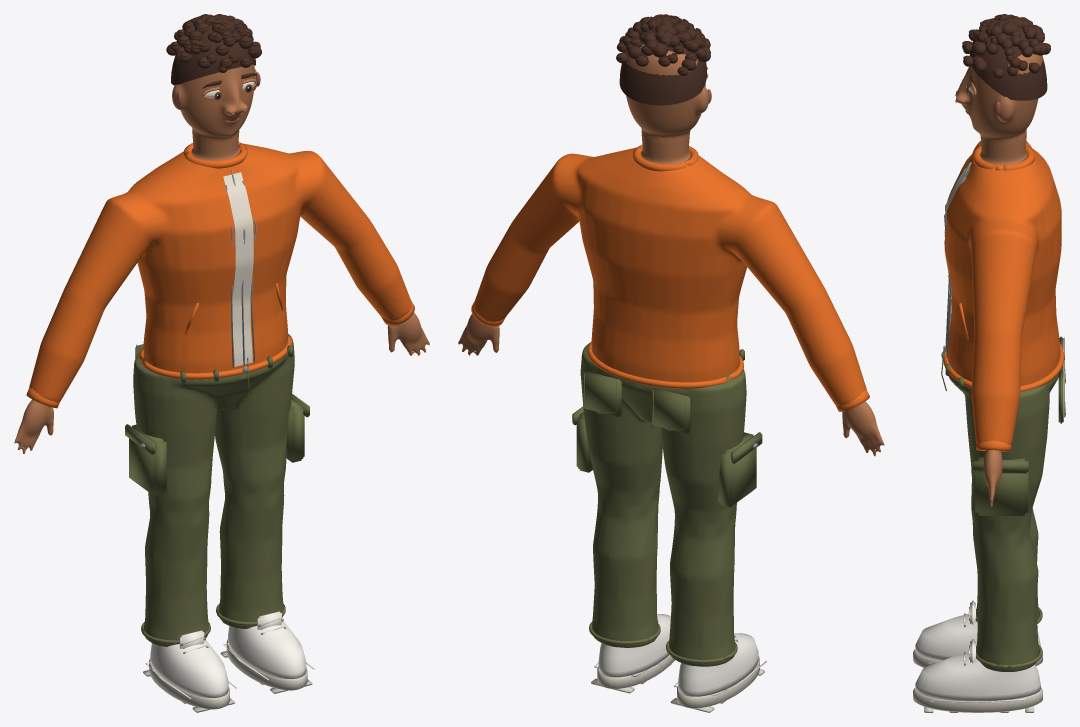
The model's file is NPC2_01_Civil_Male_Bomber.fbx.
The picture shows the model from 3 angles, left to right: view 1: azimuth 30°, elevation 25°; view 2: azimuth 150°, elevation 25°; view 3: azimuth 270°, elevation 25°; orthographic projection. The views are drawn at different scales.
Parts seen in each view (by area): view 1: Garment_Top_Continuous, Trouser_Continuous, Skin_01_Civil_Male_Bomber, Undershirt_Front, Shoe_Upper, Shoe_Upper.001, Cargo_Pocket, Hair_Cap, Top_Hem, Cargo_Pocket.001, Shoe_Sole.001, Shoe_Sole (+1 smaller); view 2: Garment_Top_Continuous, Trouser_Continuous, Skin_01_Civil_Male_Bomber, Hair_Cap, Shoe_Upper, Shoe_Upper.001, Cargo_Pocket, Back_Pocket, Back_Pocket.001, Top_Hem, Shoe_Sole, Shoe_Sole.001 (+1 smaller); view 3: Garment_Top_Continuous, Trouser_Continuous, Skin_01_Civil_Male_Bomber, Shoe_Upper.001, Hair_Cap, Cargo_Pocket.001, Shoe_Upper, Shoe_Sole.001, Top_Hem, Bomber_Collar, Cargo_Flap.001, Trouser_Hem.001 (+4 smaller).
Part boxes in pixels (bbox=[...]): Garment_Top_Continuous: bbox=[29, 143, 411, 402]; Trouser_Continuous: bbox=[133, 335, 294, 646]; Skin_01_Civil_Male_Bomber: bbox=[14, 55, 429, 453]; Undershirt_Front: bbox=[223, 172, 253, 366]; Shoe_Upper: bbox=[150, 640, 228, 697]; Shoe_Upper.001: bbox=[228, 621, 306, 678]; Cargo_Pocket: bbox=[129, 424, 166, 496]; Hair_Cap: bbox=[171, 25, 255, 85]; Top_Hem: bbox=[139, 333, 291, 379]; Cargo_Pocket.001: bbox=[286, 399, 304, 462]; Shoe_Sole.001: bbox=[226, 639, 307, 690]; Shoe_Sole: bbox=[149, 658, 229, 709]; Garment_Top_Continuous: bbox=[474, 147, 866, 406]; Trouser_Continuous: bbox=[580, 343, 746, 666]; Skin_01_Civil_Male_Bomber: bbox=[458, 44, 884, 456]; Hair_Cap: bbox=[619, 24, 706, 105]; Shoe_Upper: bbox=[678, 633, 758, 696]; Shoe_Upper.001: bbox=[598, 614, 670, 677]; Cargo_Pocket: bbox=[718, 432, 756, 507]; Back_Pocket: bbox=[652, 388, 690, 433]; Back_Pocket.001: bbox=[583, 371, 621, 417]; Top_Hem: bbox=[587, 341, 743, 388]; Shoe_Sole: bbox=[677, 656, 759, 708]; Shoe_Sole.001: bbox=[597, 656, 674, 689]; Garment_Top_Continuous: bbox=[944, 141, 1061, 444]; Trouser_Continuous: bbox=[948, 373, 1058, 671]; Skin_01_Civil_Male_Bomber: bbox=[956, 54, 1042, 507]; Shoe_Upper.001: bbox=[915, 652, 1040, 701]; Hair_Cap: bbox=[969, 28, 1047, 100]; Cargo_Pocket.001: bbox=[975, 456, 1028, 515]; Shoe_Upper: bbox=[915, 613, 1040, 660]; Shoe_Sole.001: bbox=[913, 688, 1042, 712]; Top_Hem: bbox=[943, 343, 1064, 391]; Bomber_Collar: bbox=[972, 145, 1034, 170]; Cargo_Flap.001: bbox=[972, 460, 1028, 473]; Trouser_Hem.001: bbox=[976, 644, 1042, 668].
Size of the model in its own units: 1.24 by 1.86 by 0.388.
